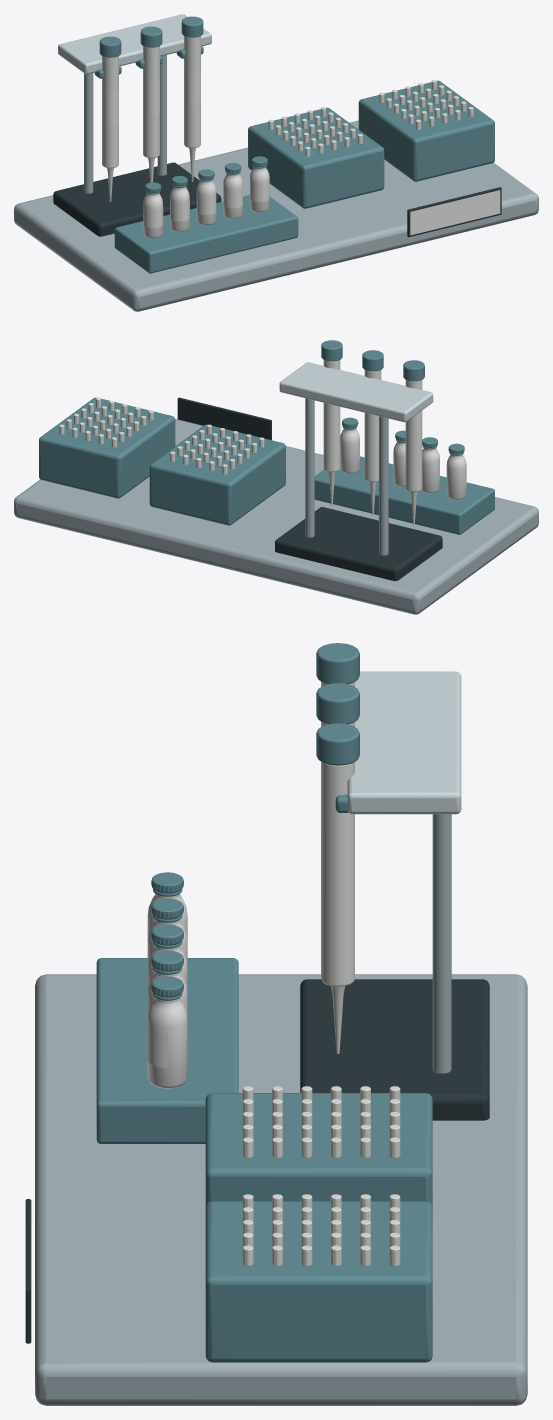
File: ID_PipetteWorkstation.fbx
3 views of the same model, one above another, from view 1: azimuth 30°, elevation 25°; view 2: azimuth 150°, elevation 25°; view 3: azimuth 270°, elevation 25° (orthographic). The views are drawn at different scales.
Parts seen in each view (by area): view 1: ID_PipetteWorkstation; view 2: ID_PipetteWorkstation; view 3: ID_PipetteWorkstation.
Part boxes in pixels (x1,y1,x2,y2): ID_PipetteWorkstation: [14, 14, 538, 311]; ID_PipetteWorkstation: [14, 340, 538, 614]; ID_PipetteWorkstation: [25, 643, 527, 1405].
Bounding box in the file's own units: 99 × 48 × 53.01.
